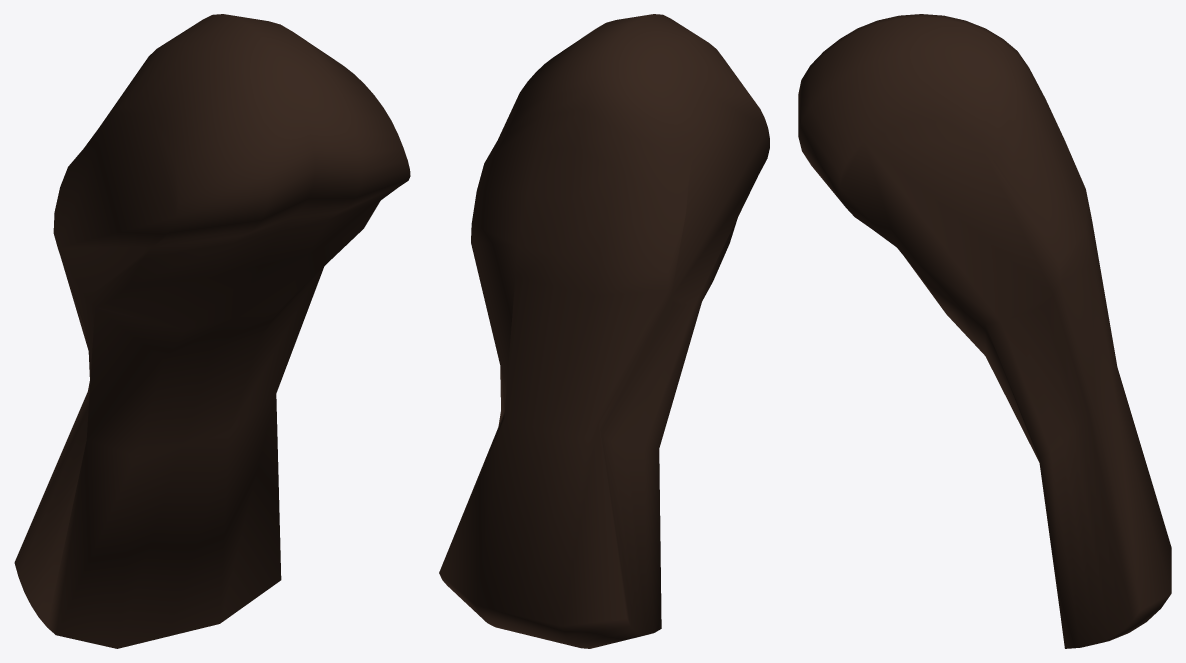
The model's file is Hair5F.glb.
3 views of the same model, side by side, from view 1: azimuth 30°, elevation 25°; view 2: azimuth 150°, elevation 25°; view 3: azimuth 270°, elevation 25° (orthographic). The views are drawn at different scales.
Parts seen in each view (by area): view 1: Hair5F.001; view 2: Hair5F.001; view 3: Hair5F.001.
Boxes of the visible parts, x1=… form: Hair5F.001: x1=14, y1=14, x2=410, y2=648; Hair5F.001: x1=439, y1=14, x2=769, y2=648; Hair5F.001: x1=798, y1=14, x2=1171, y2=648.
Bounding box in the file's own units: 2.67 × 6.89 × 3.84.
